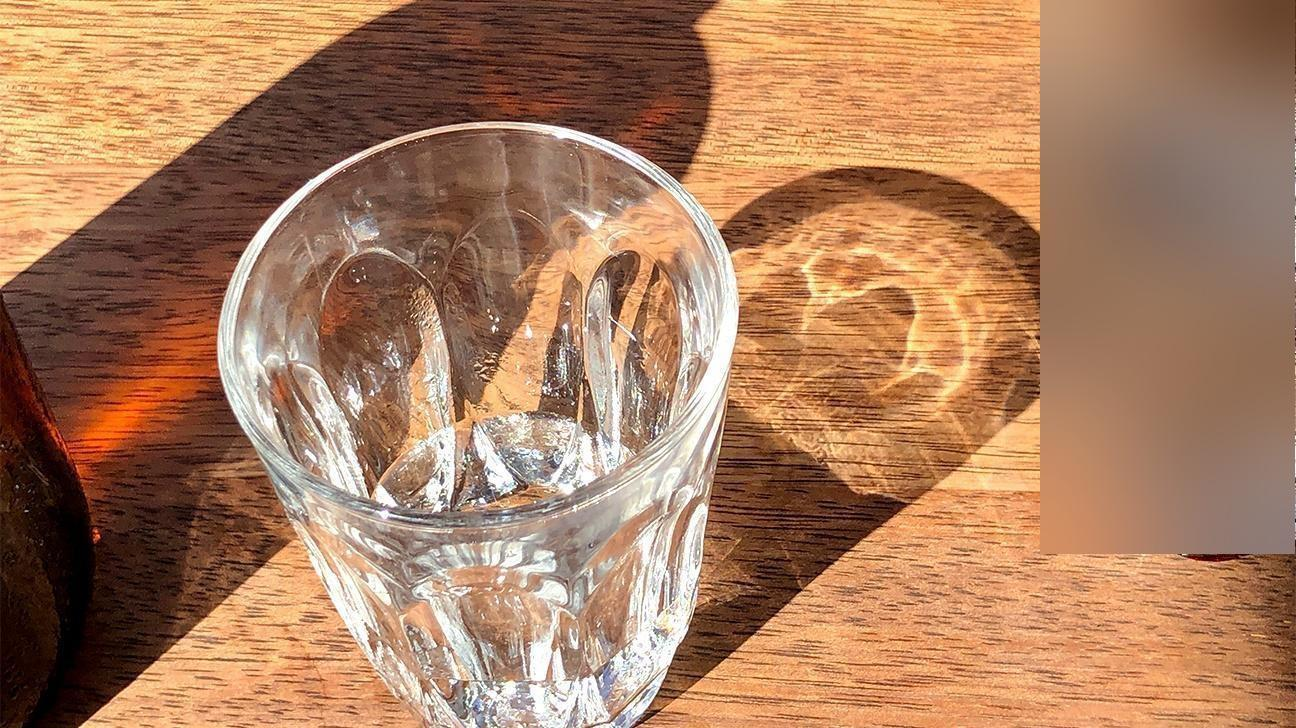glass-normal: (210, 115, 742, 727)
